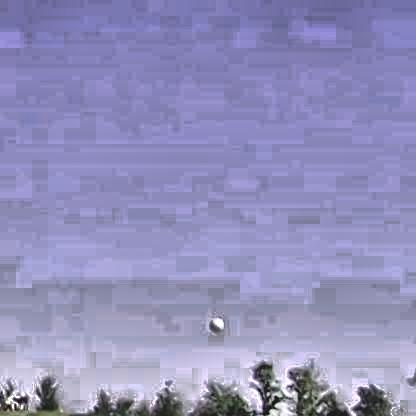golfball: (207, 314, 222, 331)
